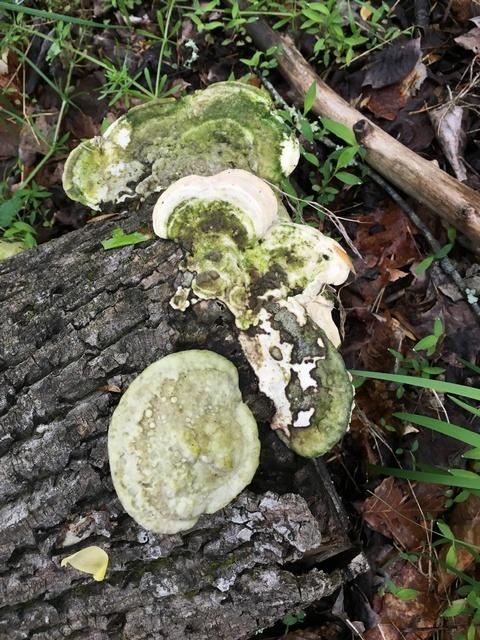Non-edible Mushroom: (60, 62, 345, 335), (106, 347, 261, 535), (235, 297, 355, 459)
